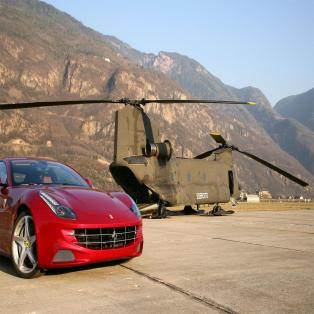Auto: (1, 155, 144, 278)
